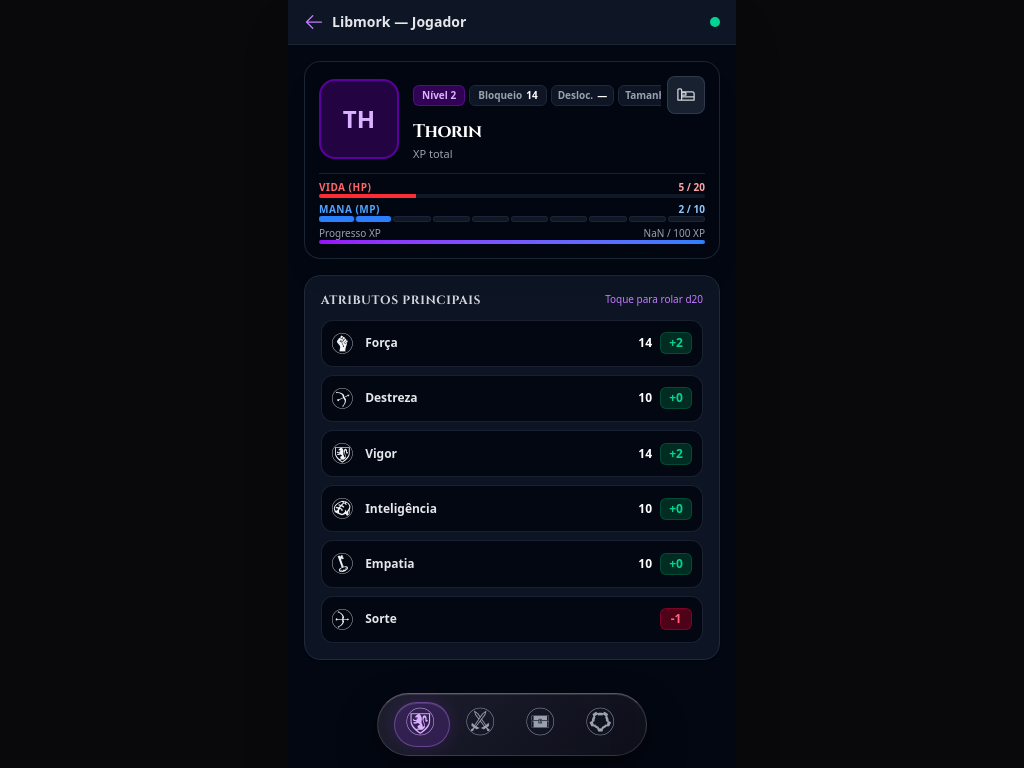
Test: CharacterDetail - RestPopover Integration › reverte os valores em caso de erro na requisição
Expected: the heading "Thorin" is shown, [413, 119, 482, 144]
What coordinates should you click on to do the following:
click the button named "descansar personagem"
I would click on:
 (686, 95)
Its box is [667, 76, 705, 114].
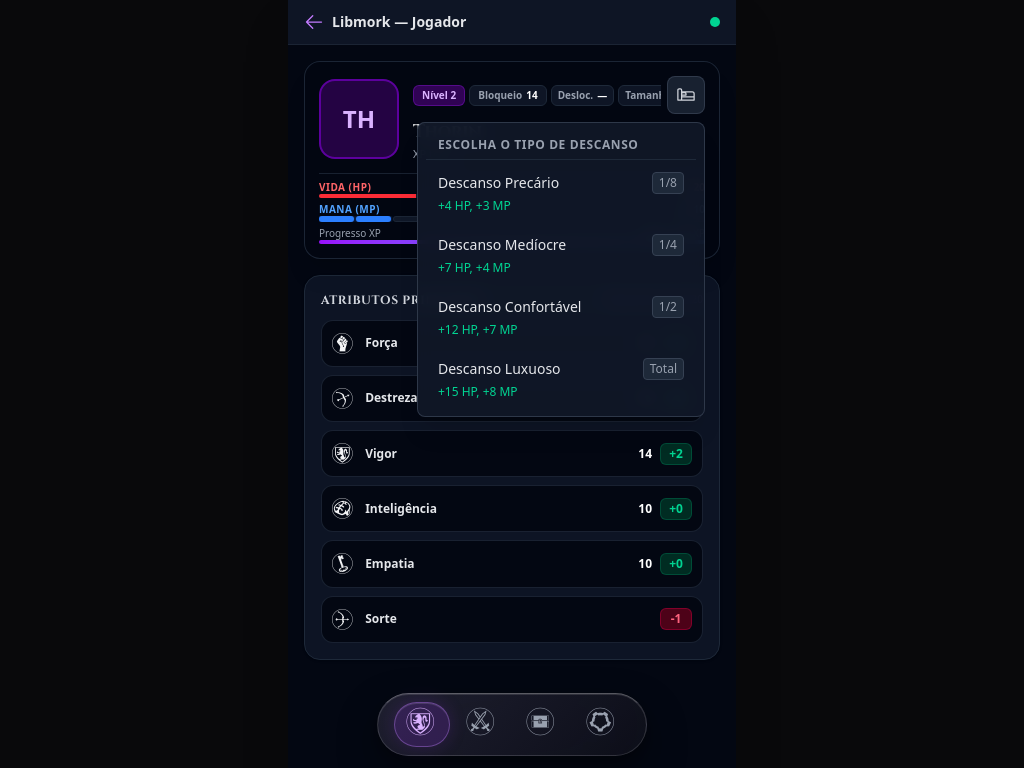
What coordinates should you click on to do the following:
click the menu item "Descanso Confortável 1/2 +12 HP, +7 MP"
I would click on:
 (561, 317)
Its box is [426, 288, 696, 346].
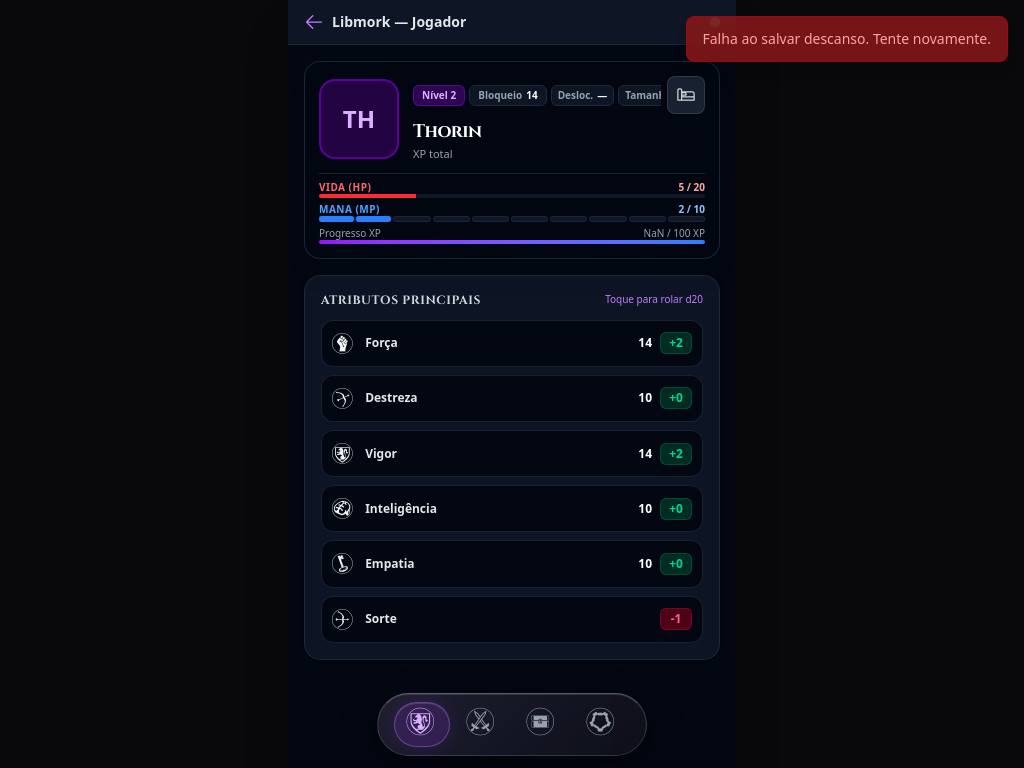
Expected: the text "Falha ao salvar descanso. Tente novamente." is shown, [686, 16, 1008, 62]
